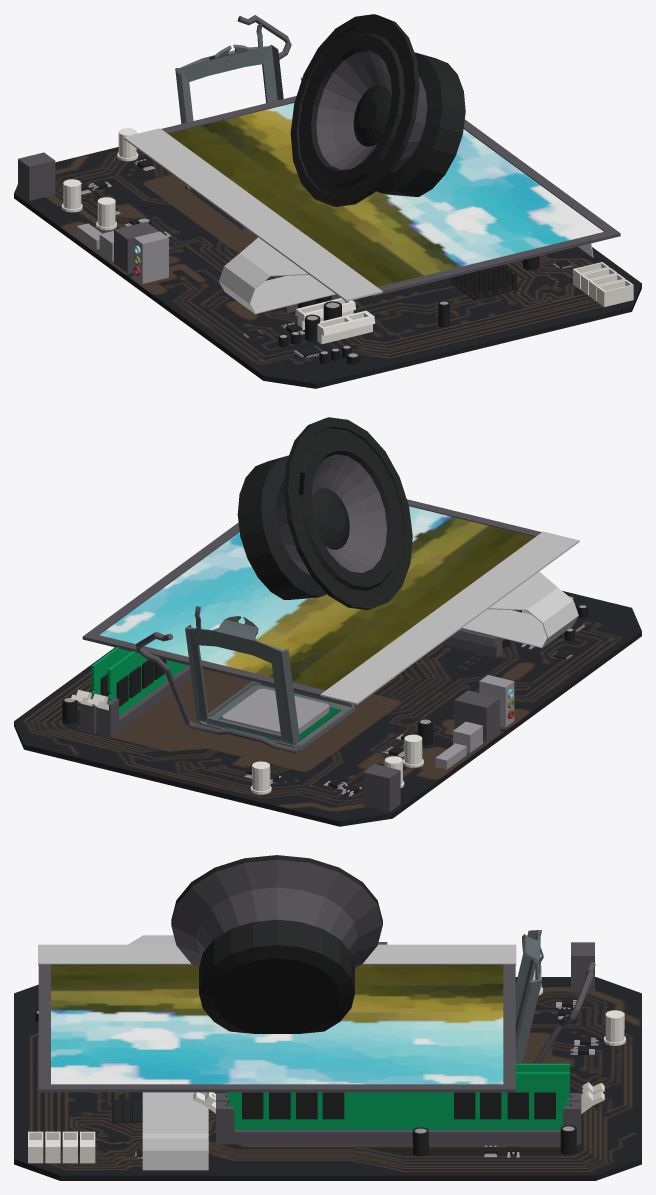
Rendered from Computing module.fbx.
3 renders of one model, top to bottom at view 1: azimuth 30°, elevation 25°; view 2: azimuth 150°, elevation 25°; view 3: azimuth 270°, elevation 25°, orthographic. The views are drawn at different scales.
Visible parts, largest first — view 1: computing_module; view 2: computing_module; view 3: computing_module.
Boxes of the visible parts, x1,y1,x2,y2 form: computing_module: [14, 14, 641, 388]; computing_module: [14, 417, 641, 826]; computing_module: [14, 855, 641, 1180].
Bounding box in the file's own units: 1.22 × 0.7117 × 1.63.
